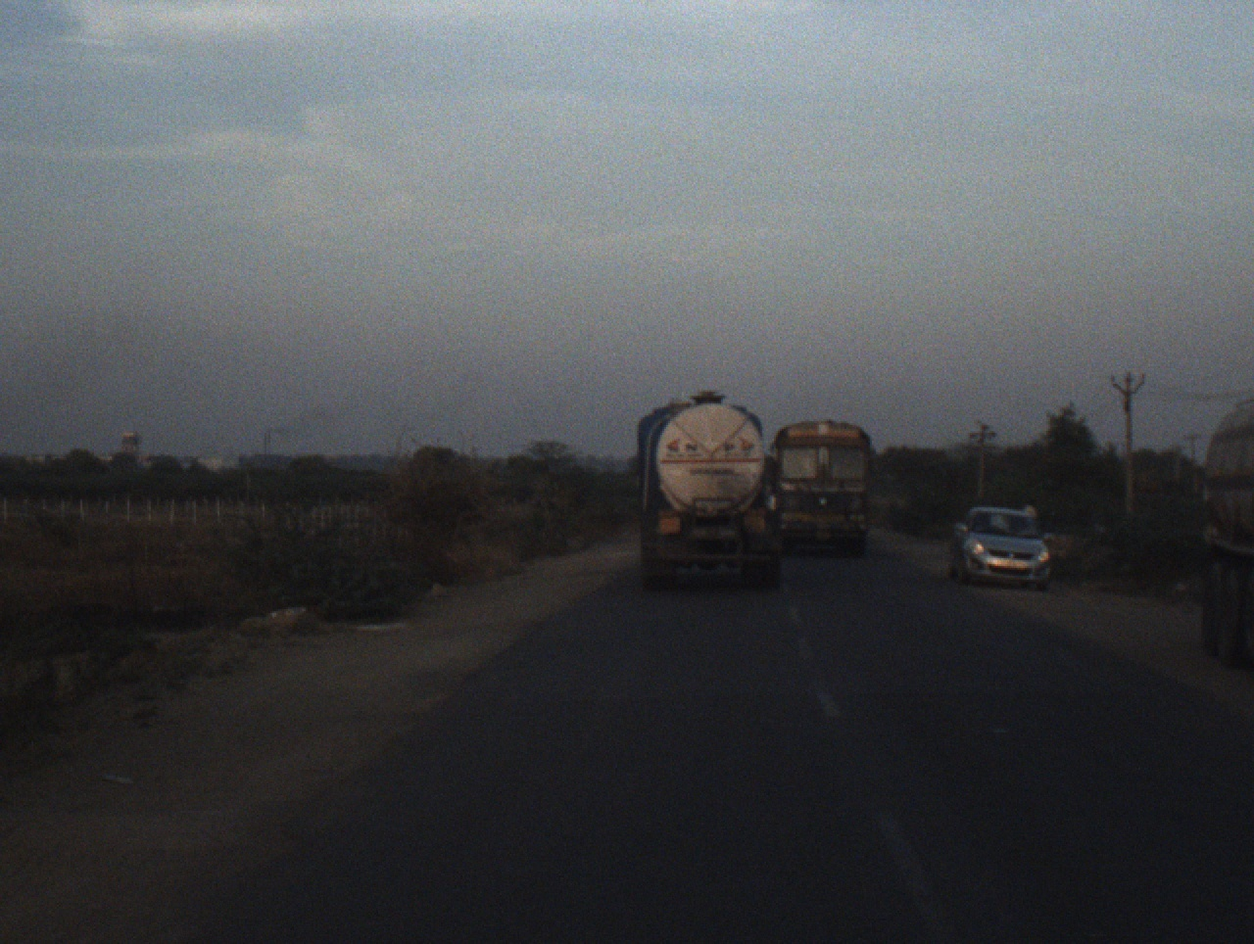car: (944, 500, 1053, 593)
truck: (630, 386, 789, 593), (1189, 395, 1254, 669), (760, 422, 882, 552)
